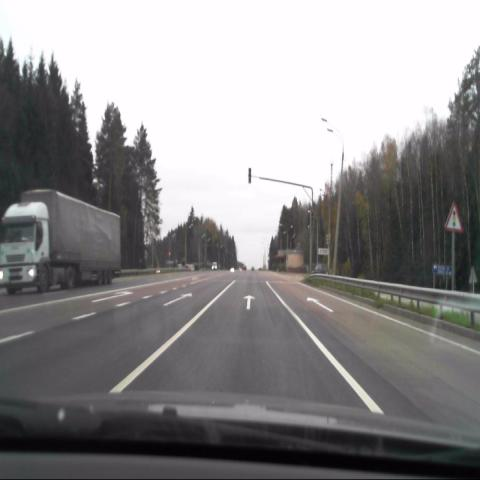1_8: (442, 200, 464, 232)
